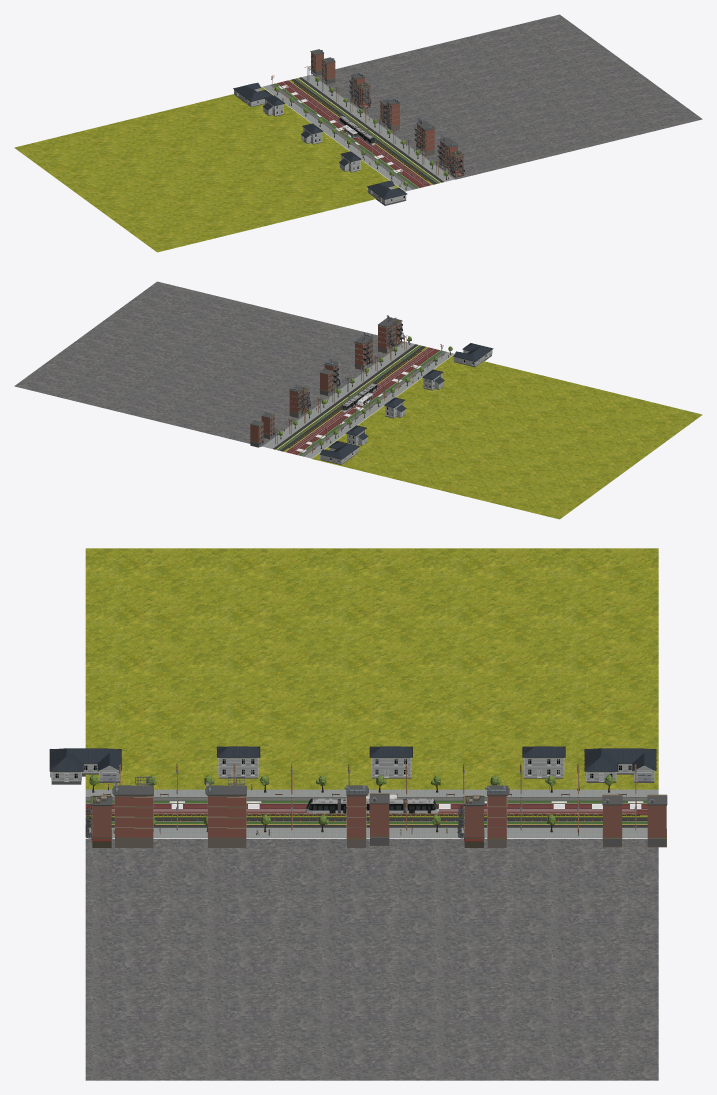
The model's file is app-3d-st_draco_2.glb.
The picture shows the model from 3 angles, top to bottom: view 1: azimuth 30°, elevation 25°; view 2: azimuth 150°, elevation 25°; view 3: azimuth 270°, elevation 25°; orthographic projection. The views are drawn at different scales.
Parts seen in each view (by area): view 1: Mesh_266, Mesh_275, Mesh_65, Mesh_265, Mesh_78, suburban-house_3.002, SM_Bld_Shop_03.001, suburban-house_3, Mesh_44, Mesh_213, SM_Bld_Shop_03, Mesh_139 (+3 smaller); view 2: Mesh_266, Mesh_275, Mesh_65, Mesh_265, Mesh_78, suburban-house_3.002, suburban-house_3, SM_Bld_Shop_03.001, SM_Bld_Shop_03, Mesh_44, Mesh_213, Mesh_139 (+3 smaller); view 3: Mesh_275, Mesh_266, SM_Bld_Shop_03, SM_Bld_Shop_03.001, suburban-house_3.002, suburban-house_3, Mesh_265, Mesh_78, Mesh_65, Mesh_213, suburban-house_2.002, suburban-house_2 (+15 smaller).
Part boxes in pixels (left/top/right/bottom): Mesh_266: left=14, top=87, right=404, bottom=252; Mesh_275: left=312, top=14, right=702, bottom=179; Mesh_65: left=277, top=82, right=424, bottom=187; Mesh_265: left=307, top=74, right=454, bottom=180; Mesh_78: left=283, top=80, right=430, bottom=186; suburban-house_3.002: left=367, top=180, right=407, bottom=205; SM_Bld_Shop_03.001: left=414, top=118, right=434, bottom=156; suburban-house_3: left=233, top=82, right=272, bottom=107; Mesh_44: left=270, top=84, right=416, bottom=189; Mesh_213: left=298, top=77, right=443, bottom=182; SM_Bld_Shop_03: left=437, top=135, right=458, bottom=173; Mesh_139: left=291, top=79, right=436, bottom=184; Mesh_266: left=312, top=355, right=702, bottom=519; Mesh_275: left=14, top=281, right=404, bottom=446; Mesh_65: left=292, top=349, right=439, bottom=454; Mesh_265: left=262, top=341, right=409, bottom=447; Mesh_78: left=286, top=347, right=433, bottom=453; suburban-house_3.002: left=453, top=343, right=493, bottom=367; suburban-house_3: left=320, top=441, right=359, bottom=464; SM_Bld_Shop_03.001: left=354, top=332, right=373, bottom=370; SM_Bld_Shop_03: left=378, top=315, right=396, bottom=353; Mesh_44: left=300, top=351, right=446, bottom=456; Mesh_213: left=273, top=344, right=418, bottom=449; Mesh_139: left=280, top=346, right=425, bottom=451; Mesh_275: left=85, top=838, right=658, bottom=1080; Mesh_266: left=85, top=548, right=658, bottom=789; SM_Bld_Shop_03: left=112, top=776, right=153, bottom=847; SM_Bld_Shop_03.001: left=205, top=775, right=246, bottom=847; suburban-house_3.002: left=49, top=748, right=121, bottom=784; suburban-house_3: left=584, top=748, right=656, bottom=782; Mesh_265: left=85, top=832, right=647, bottom=837; Mesh_78: left=85, top=809, right=647, bottom=815; Mesh_65: left=85, top=803, right=647, bottom=809; Mesh_213: left=88, top=824, right=647, bottom=827; suburban-house_2.002: left=216, top=746, right=260, bottom=778; suburban-house_2: left=522, top=746, right=565, bottom=778.
Size of the model in its own units: 330 by 19.31 by 162.
43 materials, 43 textured.
